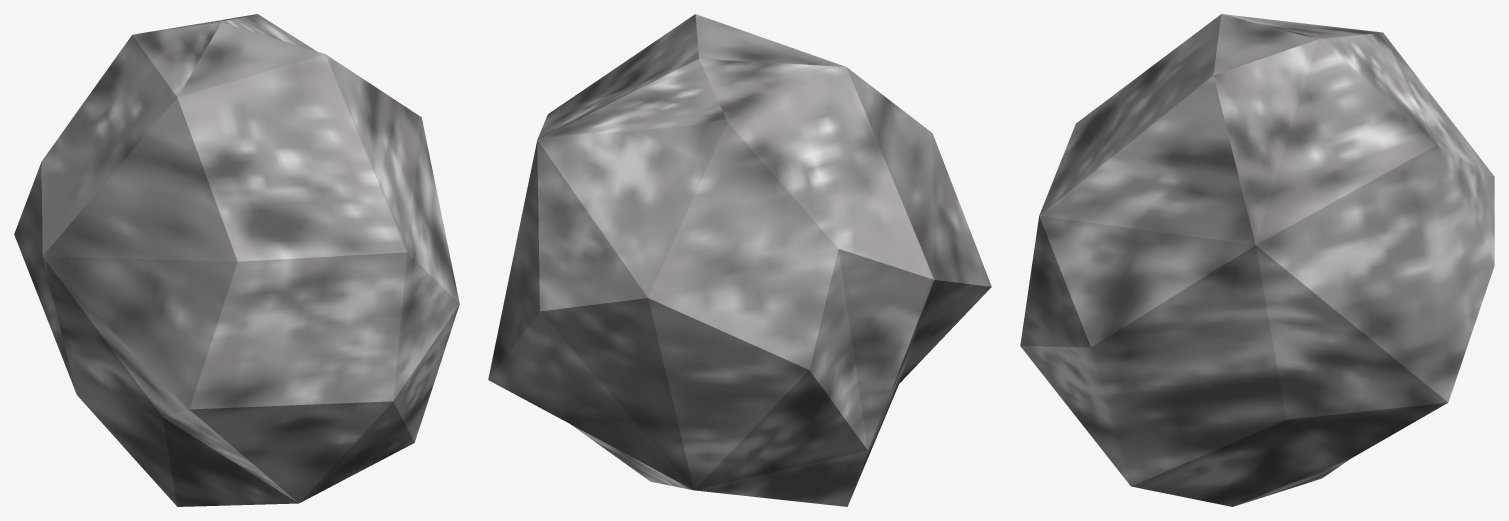
Rendered from big_rock_v3.glb.
3 views of the same model, side by side, from view 1: azimuth 30°, elevation 25°; view 2: azimuth 150°, elevation 25°; view 3: azimuth 270°, elevation 25° (orthographic). The views are drawn at different scales.
Parts seen in each view (by area): view 1: Sphere.010; view 2: Sphere.010; view 3: Sphere.010.
Part boxes in pixels (<box>): Sphere.010: <box>14,14,459,506</box>; Sphere.010: <box>488,14,991,506</box>; Sphere.010: <box>1020,14,1494,506</box>.
Bounding box in the file's own units: 7.11 × 7.89 × 7.62.
Materials: 1 (1 with a texture image).
